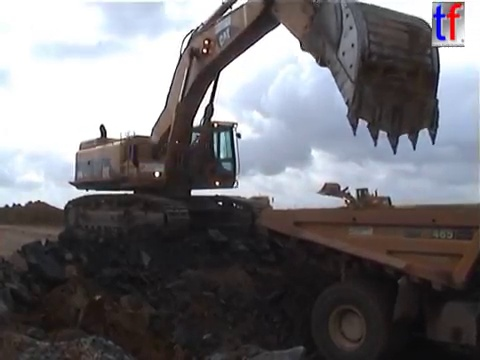excavator: (59, 1, 444, 244)
truck: (254, 200, 480, 360)
wheel loader: (314, 180, 398, 221)
